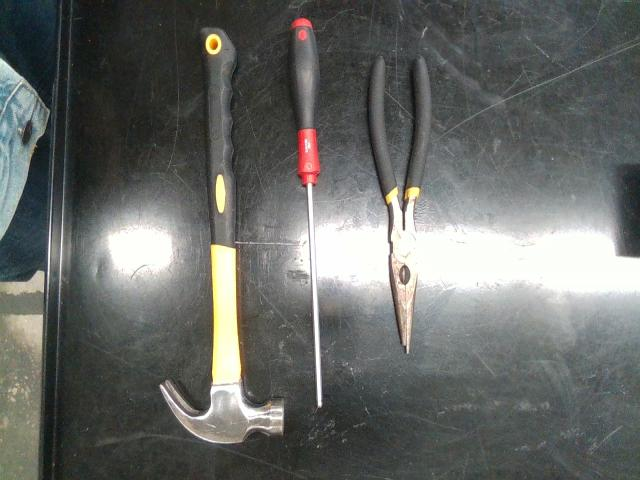Hammer: (160, 28, 284, 443)
Needle-nose pliers: (369, 57, 431, 352)
Screwdriver: (289, 18, 322, 408)
